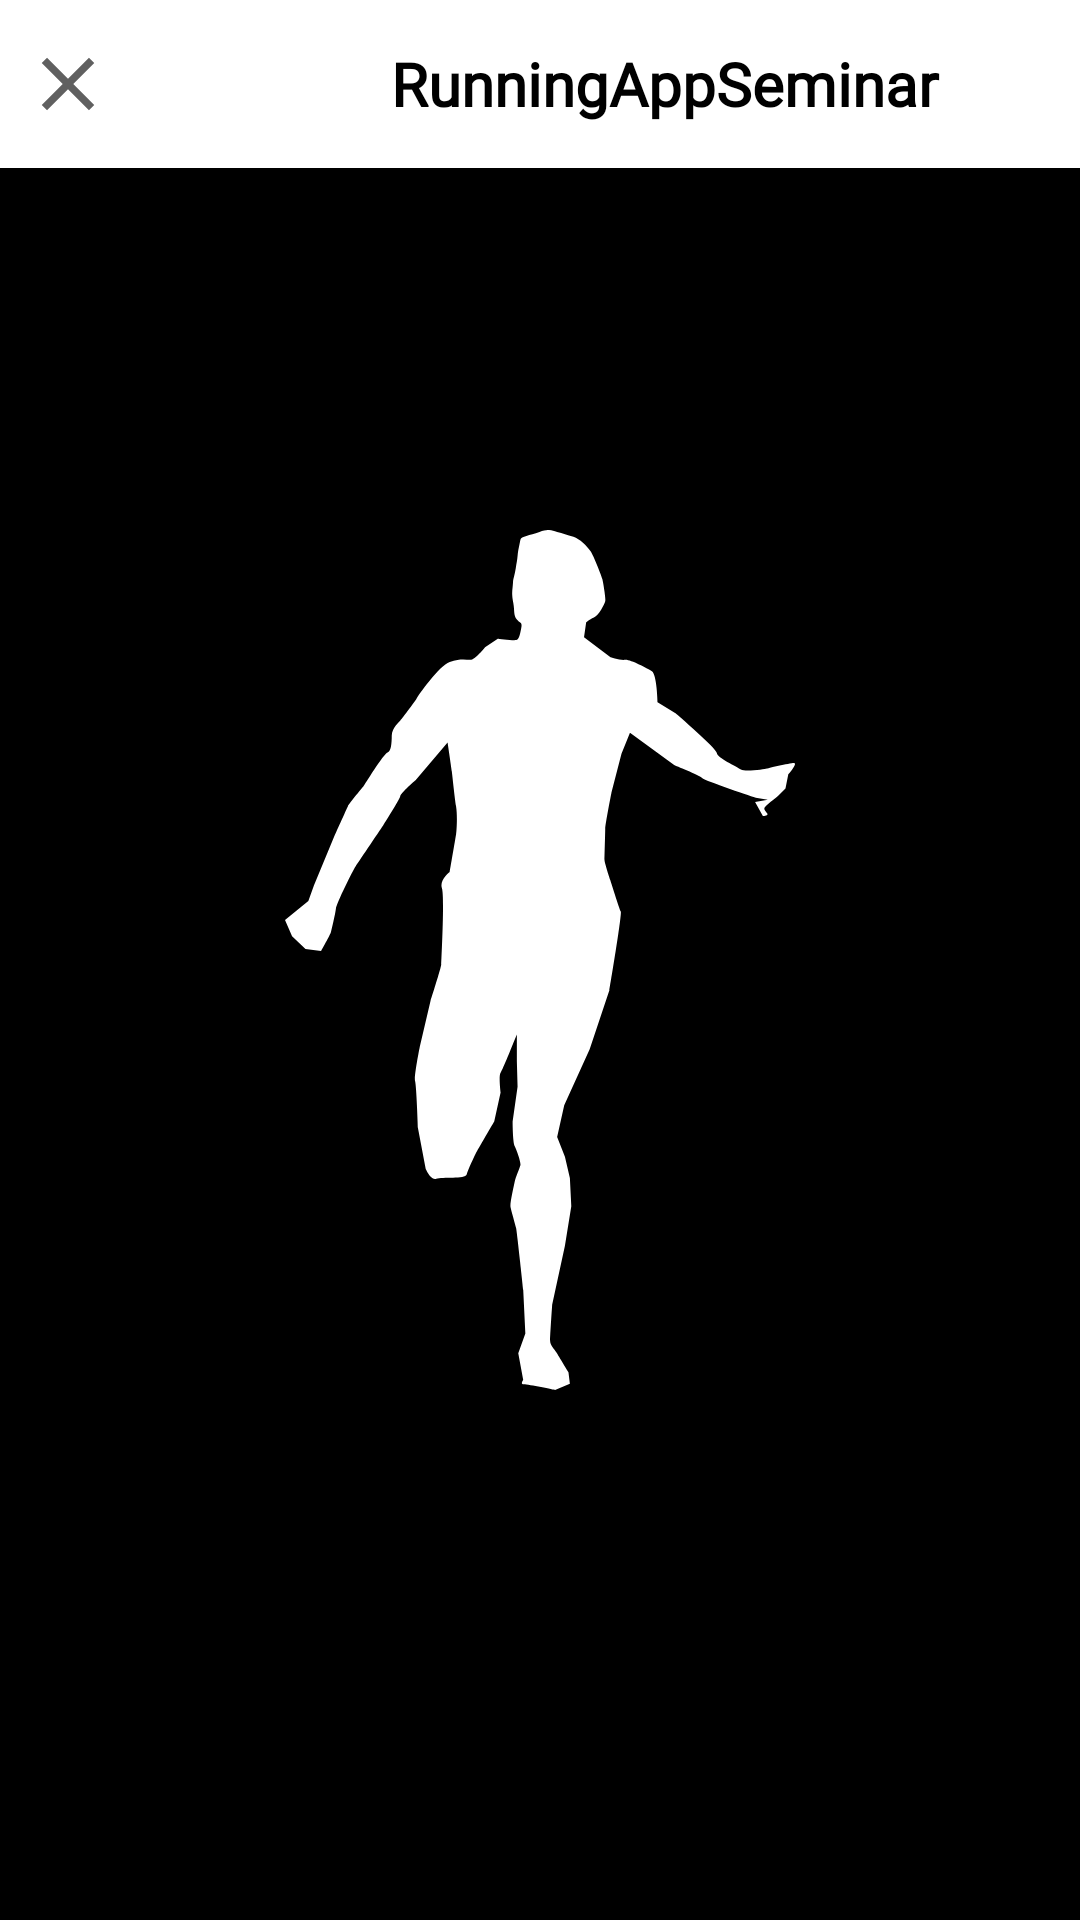

Screen size 1080 x 1920. Icon name, then its center in pixels as point (x, y):
close: point (68, 84)
